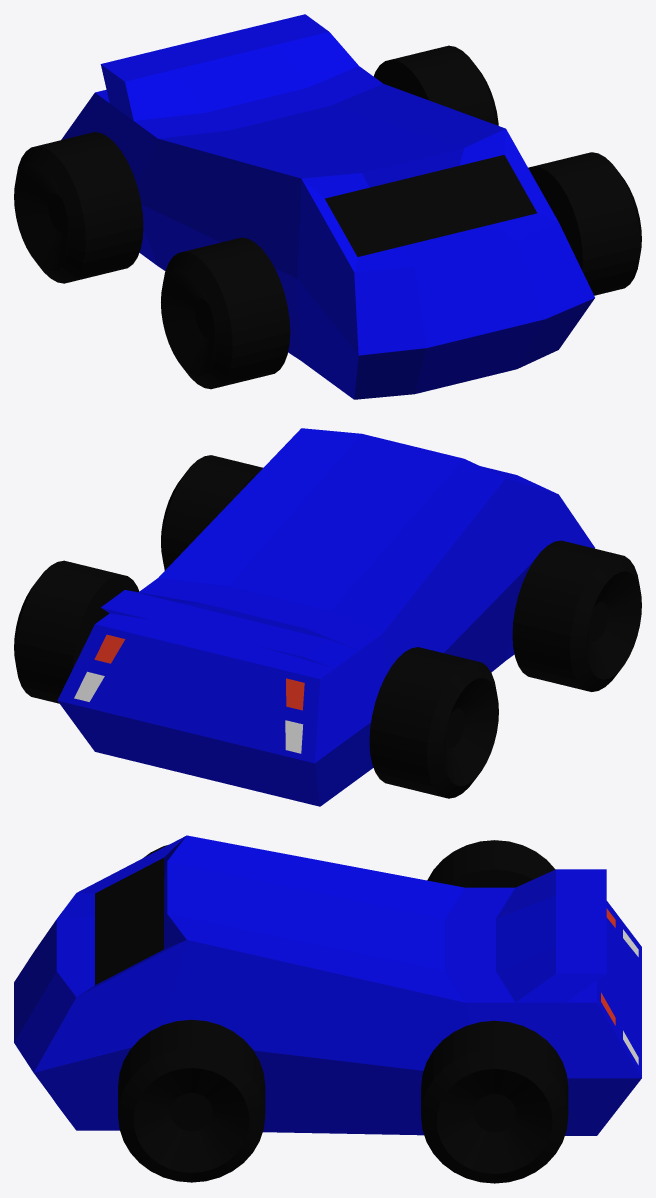
The model's file is car.fbx.
3 renders of one model, top to bottom at view 1: azimuth 30°, elevation 25°; view 2: azimuth 150°, elevation 25°; view 3: azimuth 270°, elevation 25°, orthographic. The views are drawn at different scales.
Parts seen in each view (by area): view 1: Cube, Cylinder.002, Cylinder.003, Cube.001, Cylinder, Cylinder.001; view 2: Cube, Cylinder.002, Cylinder.003, Cylinder.001, Cylinder, Cube.003, Cube.002; view 3: Cube, Cylinder, Cylinder.001, Cube.001, Cylinder.003.
Boxes of the visible parts, x1,y1,x2,y2 form: Cube: [61, 14, 594, 399]; Cylinder.002: [161, 237, 290, 389]; Cylinder.003: [14, 132, 143, 283]; Cube.001: [325, 155, 536, 256]; Cylinder: [528, 152, 641, 295]; Cylinder.001: [373, 45, 498, 125]; Cube: [57, 428, 594, 806]; Cylinder.002: [512, 540, 641, 691]; Cylinder.003: [369, 647, 498, 798]; Cylinder.001: [14, 560, 139, 703]; Cylinder: [161, 455, 262, 570]; Cube.003: [74, 671, 303, 753]; Cube.002: [94, 634, 304, 710]; Cube: [14, 835, 641, 1135]; Cylinder: [118, 1019, 265, 1182]; Cylinder.001: [421, 1020, 568, 1183]; Cube.001: [95, 858, 163, 984]; Cylinder.003: [427, 840, 555, 887].
Size of the model in its own units: 704 by 286 by 853.
